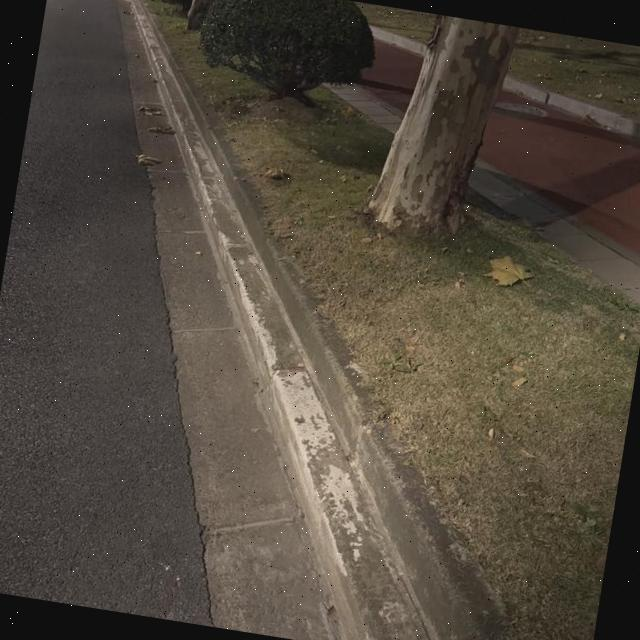curb: (145, 3, 510, 640), (133, 0, 438, 640), (508, 78, 640, 142), (371, 26, 426, 56)
